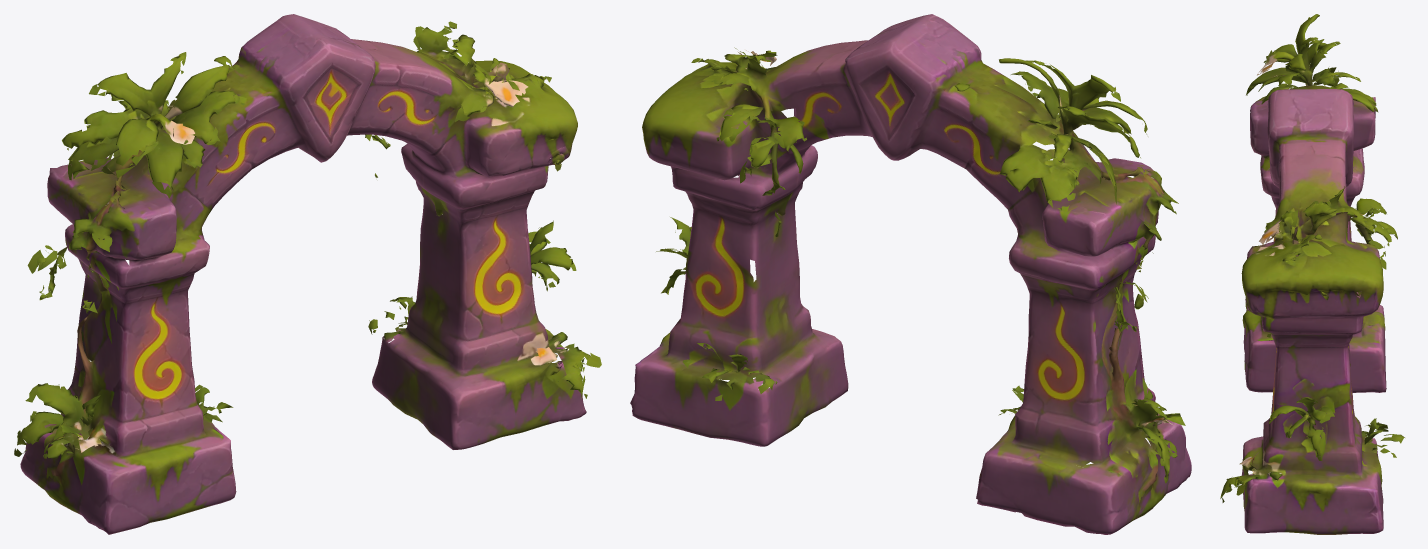
File: kemer.glb
The picture shows the model from 3 angles, left to right: view 1: azimuth 30°, elevation 25°; view 2: azimuth 150°, elevation 25°; view 3: azimuth 270°, elevation 25°; orthographic projection. The views are drawn at different scales.
Visible parts, largest first — view 1: tripo_node_ad3fbce1; view 2: tripo_node_ad3fbce1; view 3: tripo_node_ad3fbce1.
Part boxes in pixels (x1,y1,x2,y2): tripo_node_ad3fbce1: [14, 14, 601, 534]; tripo_node_ad3fbce1: [630, 14, 1191, 534]; tripo_node_ad3fbce1: [1220, 14, 1404, 534].
Size of the model in its own units: 0.9807 by 0.7502 by 0.375.
Materials: 1 (1 with a texture image).
